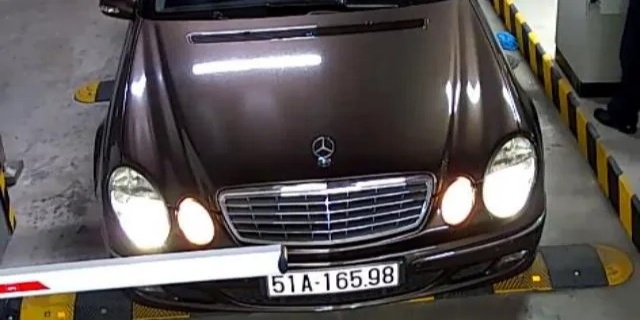bien_so: (269, 265, 397, 294)
